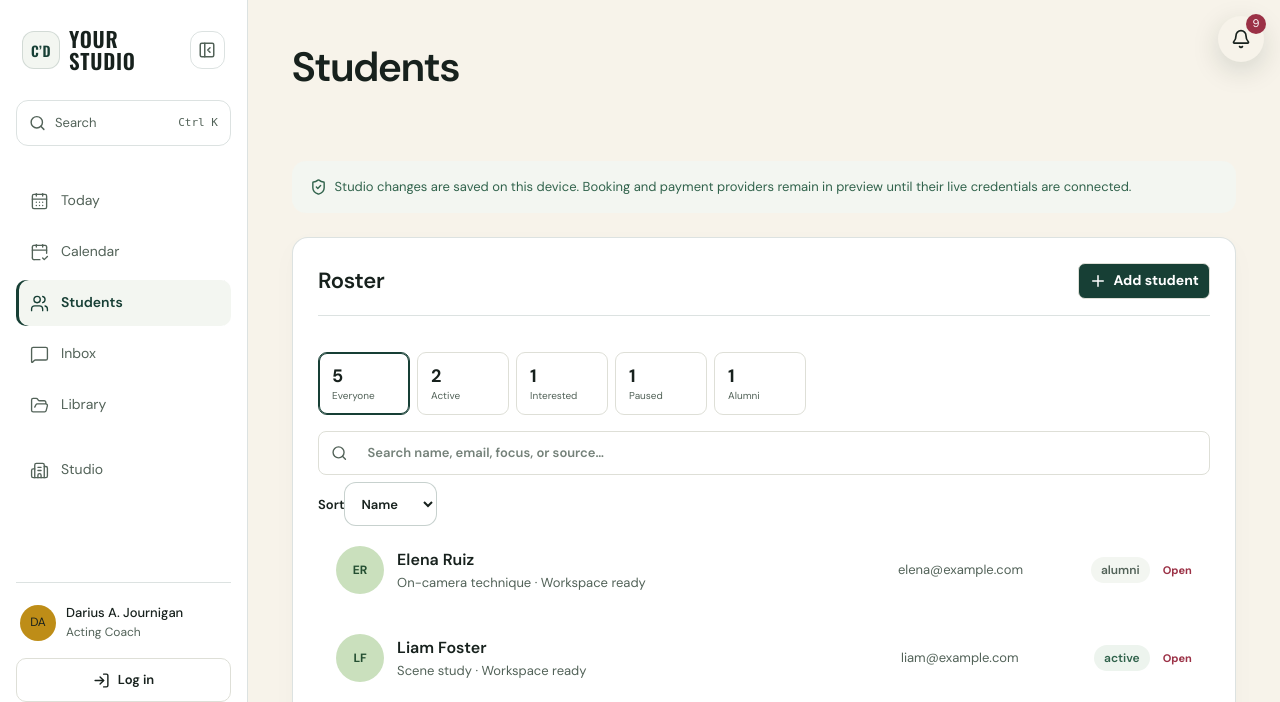
50 start-to-finish studio workflows › coach — 20 workflows › 03 adds an adult student
Step 1. Click the button "Add student" → (1144, 281), box [1078,263,1210,299]
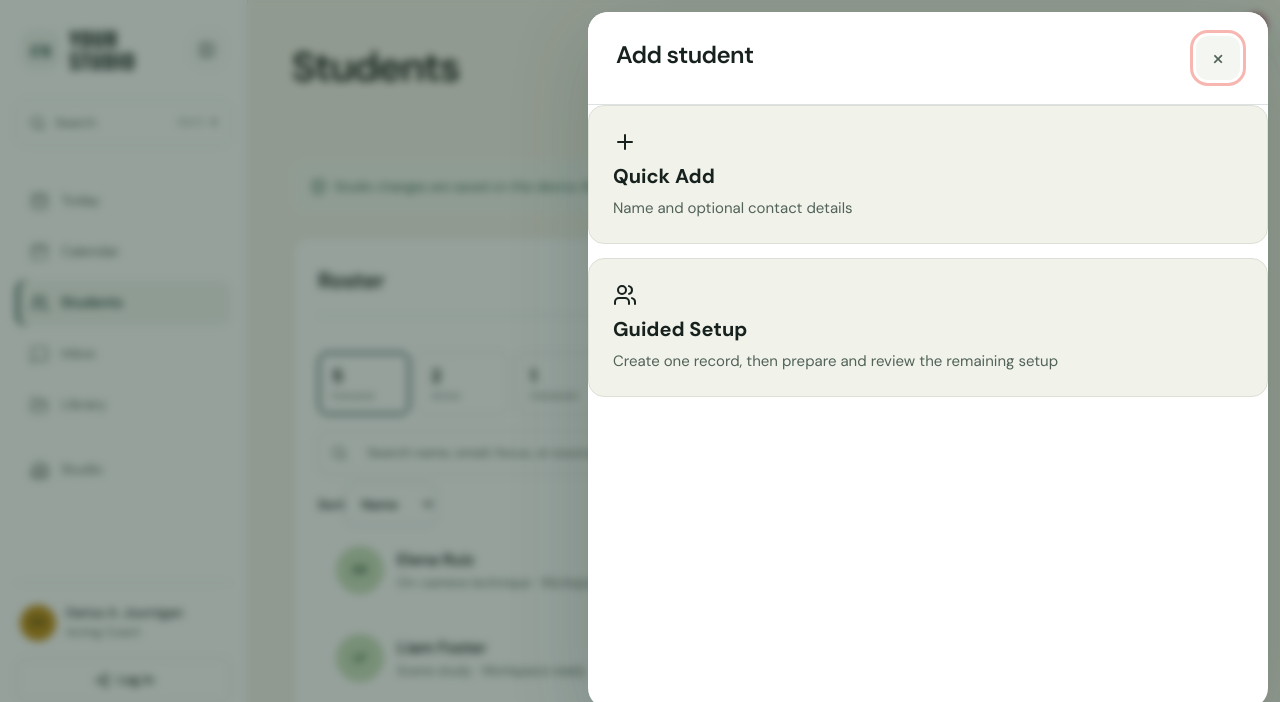
Step 2. Click the button "Quick Add Name and optional contact details" → (664, 176), box [588,105,1268,244]
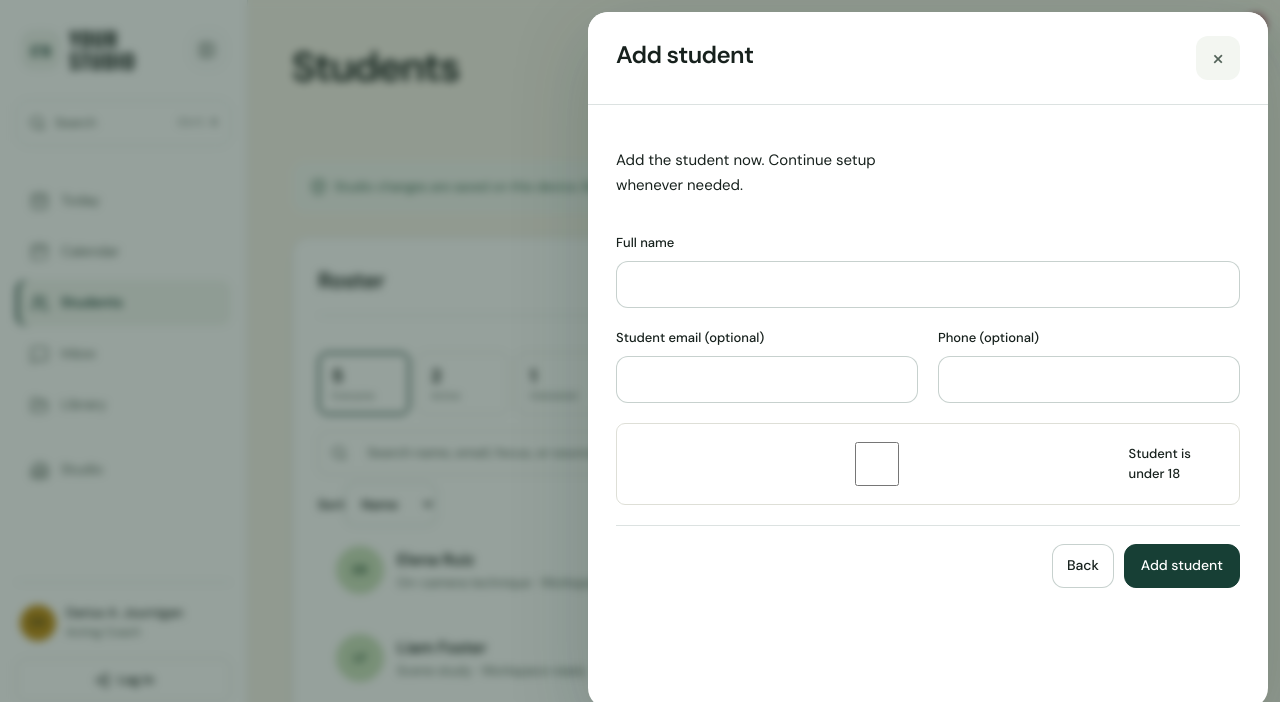
Step 3. Type "Jordan Ellis" into the field labelled "Full name" → (928, 284), box [616,261,1240,308]
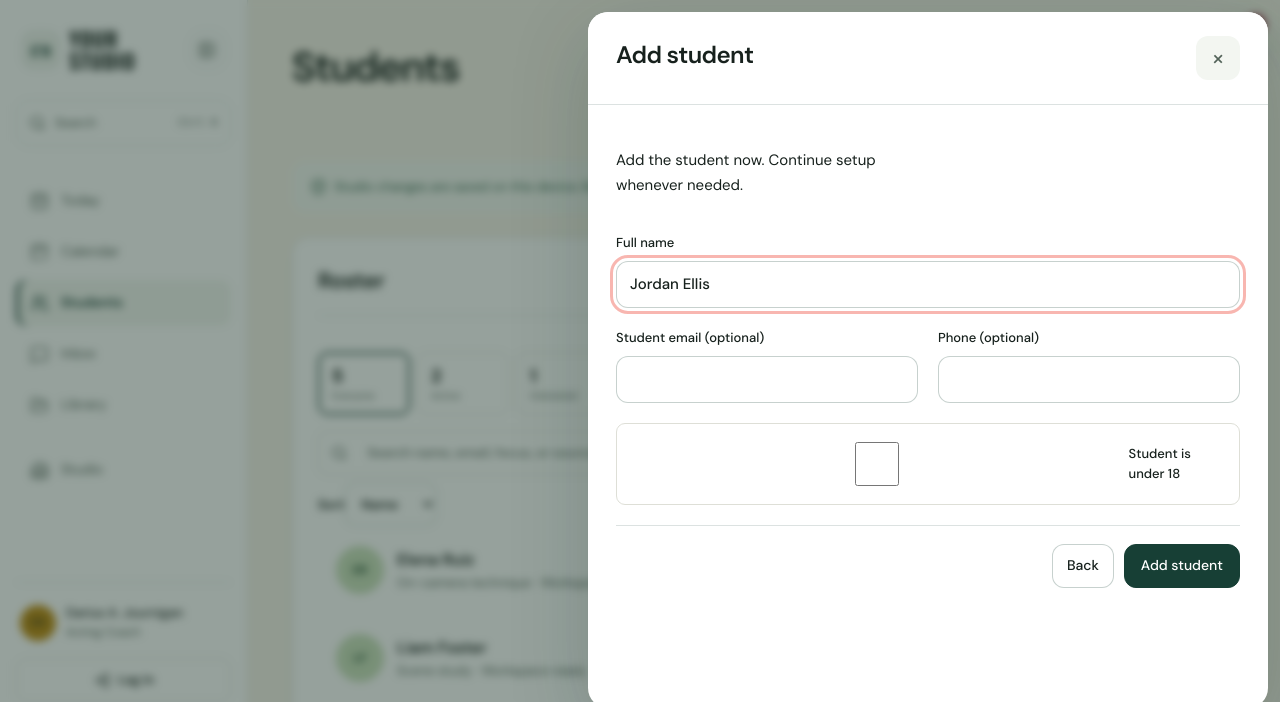
Step 4. Type "jordan@example.com" into the field labelled "Student email (optional)" → (767, 380), box [616,356,918,403]
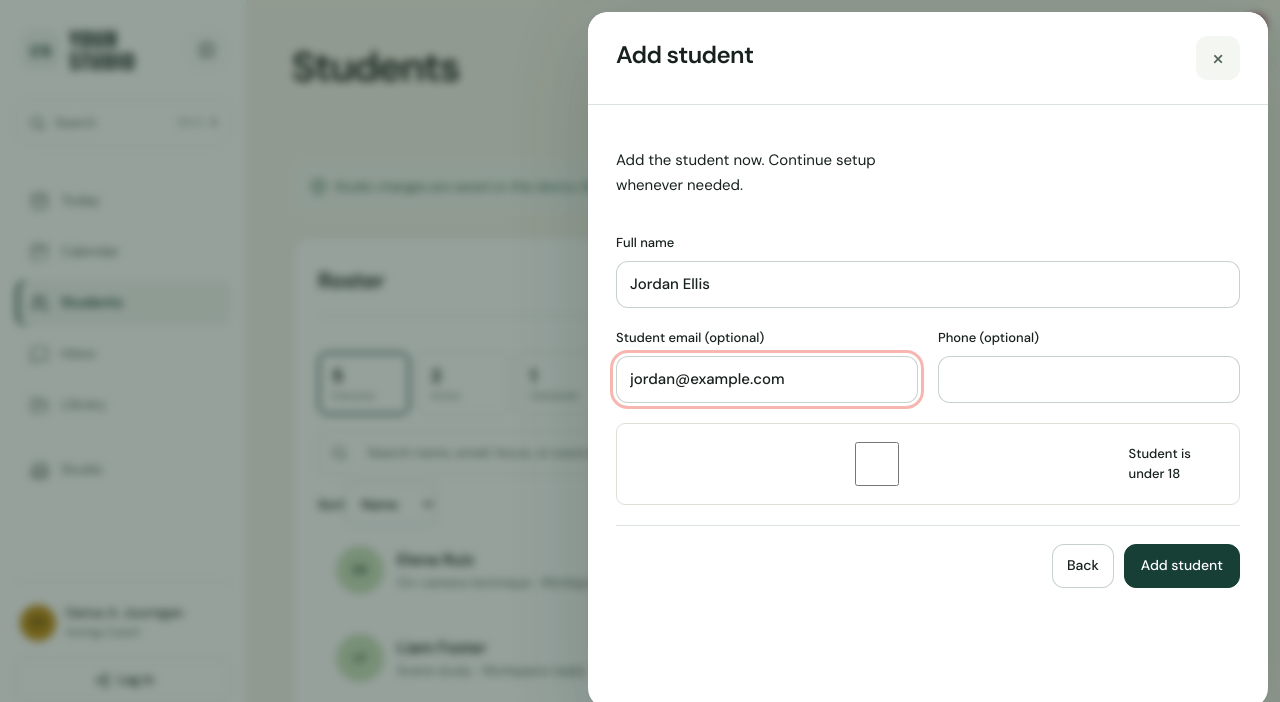
Step 5. Click the button "Add student" → (1182, 566), box [1124,544,1240,588]
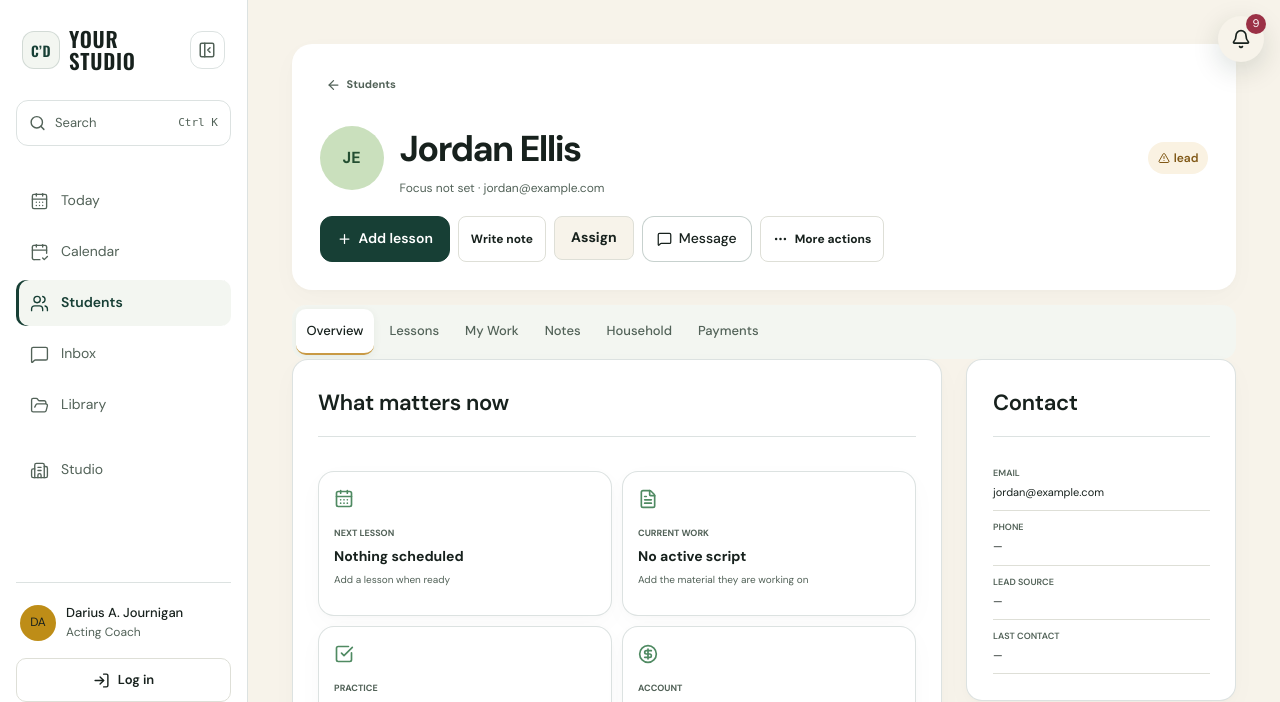
Expected: the heading "Jordan Ellis" is shown, [400,124,580,172]
